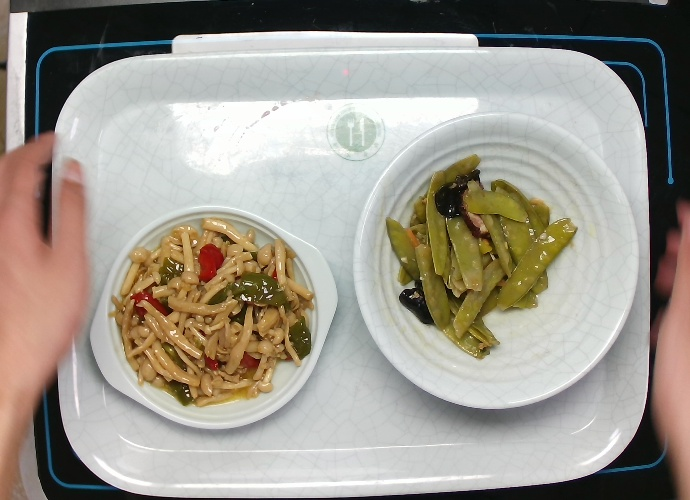JYsf-Shuang_Er_Pan: (85, 202, 341, 433)
JYsf-Xiao_Tang_Wan: (349, 108, 642, 413)
